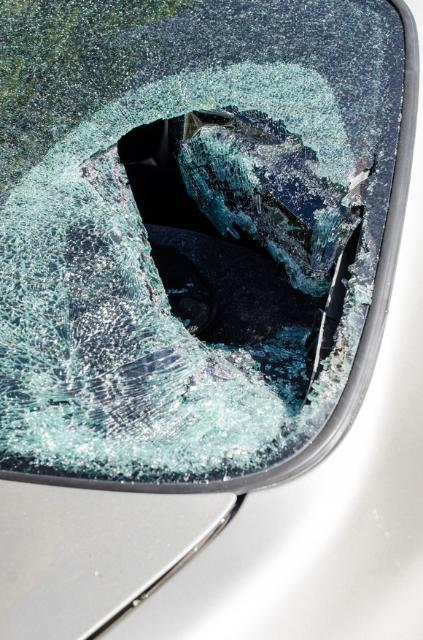Windshield: (2, 4, 404, 527)
